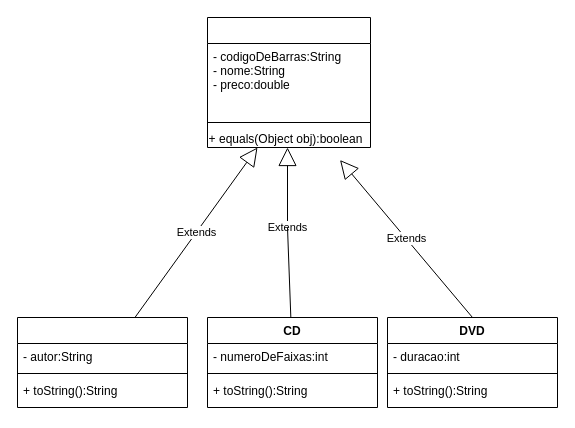
Some shapes in this 575 by 428 pixel diagram are drawn without their labels. Here are the shapes that lost their labels. From the top down, the box of each, then its label:
(206, 16, 370, 148): Produto
(16, 316, 188, 408): Livro
